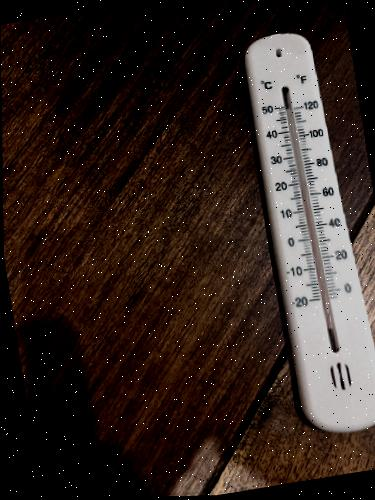thermo: (238, 27, 375, 442)
